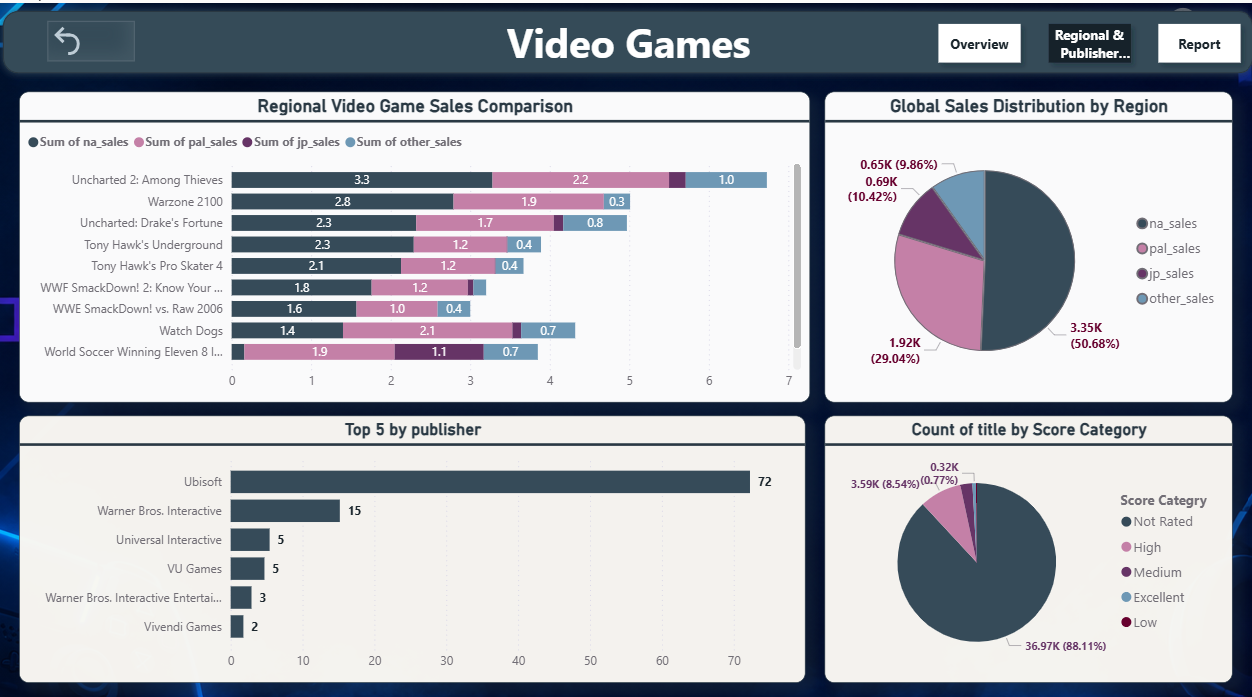

What the dashboard file says about the page in this screenshot:
{"tool":"powerbi","page":{"name":"Regional & Publisher Analysis","canvas":[1280,720],"ordinal":1},"visuals":[{"type":"actionButton","box":[1179.6,0,99.9,39.4],"z":0},{"type":"shape","title":"video games","box":[0,0,1279,78.9],"z":1000},{"type":"barChart","title":"Regional Video Game Sales Comparison","fields":{"Category":["Table.title"],"Y":["Sum(Table.na_sales)","Sum(Table.pal_sales)","Sum(Table.jp_sales)","Sum(Table.other_sales)"]},"box":[23.7,90,799,314.2],"z":2000},{"type":"pieChart","title":"Global Sales Distribution by Region","fields":{"Category":["Table (2).Attribute"],"Y":["Sum(Table (2).Value)"]},"box":[836.9,90,412.1,314.2],"z":3000},{"type":"barChart","title":"Top 5 by publisher","fields":{"Category":["Table.publisher"],"Y":["Sum(Table.total_sales)"]},"box":[23.7,416.8,794.2,270],"z":4000},{"type":"pieChart","title":"Count of title by Score Category","fields":{"Category":["Table.Score Categry"],"Y":["Count(Table.title)"]},"box":[836.9,416.8,412.1,270],"z":5000},{"type":"pageNavigator","box":[943.3,12.1,325.6,57.5],"z":6000},{"type":"actionButton","box":[52.7,17.6,87.9,40.6],"z":7000}]}

Visuals, with their boxes in screenshot pixels (x1, y1, x2, y2), scaled from the page's 1280x720 canvas onto the 1252x697 screenshot:
actionButton: bbox=[1154, 0, 1251, 38]
"video games" shape: bbox=[0, 0, 1251, 76]
"Regional Video Game Sales Comparison" barChart: bbox=[23, 87, 805, 391]
"Global Sales Distribution by Region" pieChart: bbox=[819, 87, 1222, 391]
"Top 5 by publisher" barChart: bbox=[23, 403, 800, 665]
"Count of title by Score Category" pieChart: bbox=[819, 403, 1222, 665]
pageNavigator: bbox=[923, 12, 1241, 67]
actionButton: bbox=[52, 17, 138, 56]
